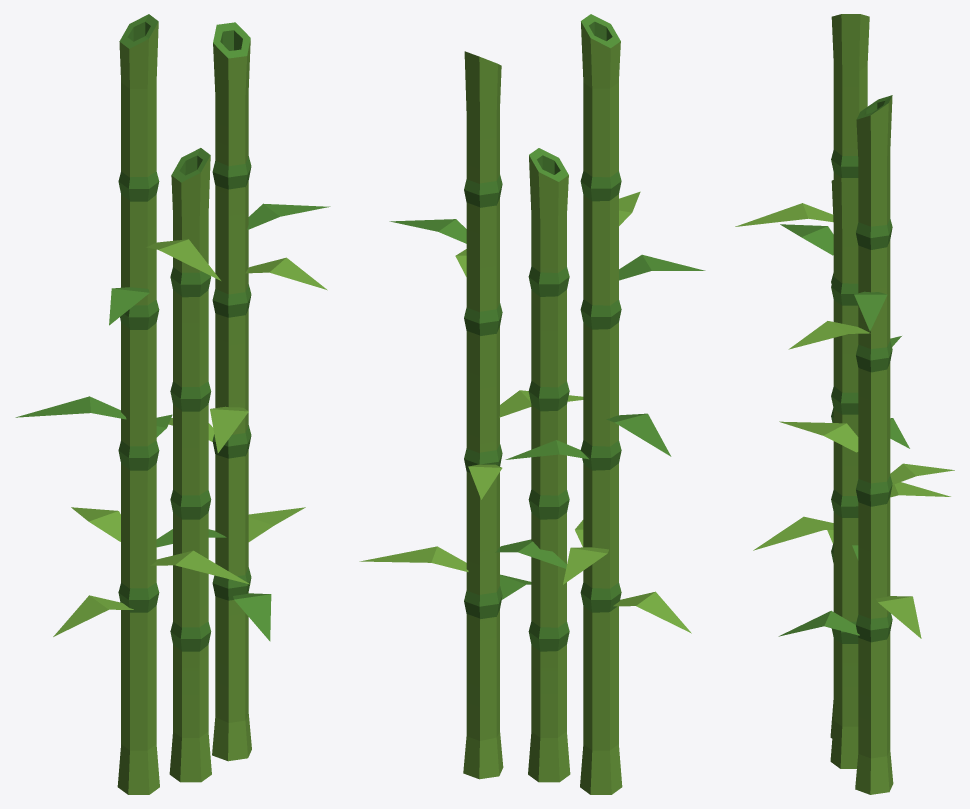
Rendered from japan_bamboo-leaves.fbx.
3 renders of one model, left to right at view 1: azimuth 30°, elevation 25°; view 2: azimuth 150°, elevation 25°; view 3: azimuth 270°, elevation 25°, orthographic. The views are drawn at different scales.
Parts seen in each view (by area): view 1: japan_bamboo_leaves; view 2: japan_bamboo_leaves; view 3: japan_bamboo_leaves.
Boxes of the visible parts, bbox=[...] form: japan_bamboo_leaves: bbox=[15, 14, 330, 794]; japan_bamboo_leaves: bbox=[359, 14, 705, 794]; japan_bamboo_leaves: bbox=[735, 14, 954, 794].
Size of the model in its own units: 82.57 by 200 by 55.07.
